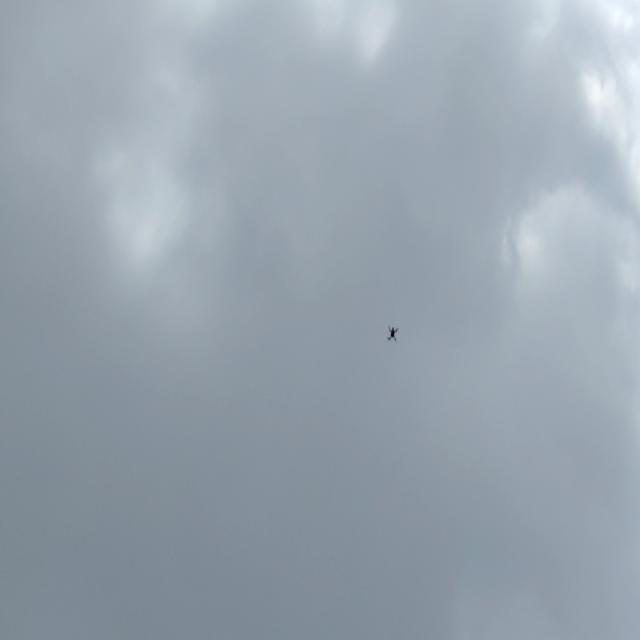drone: (384, 322, 404, 349)
